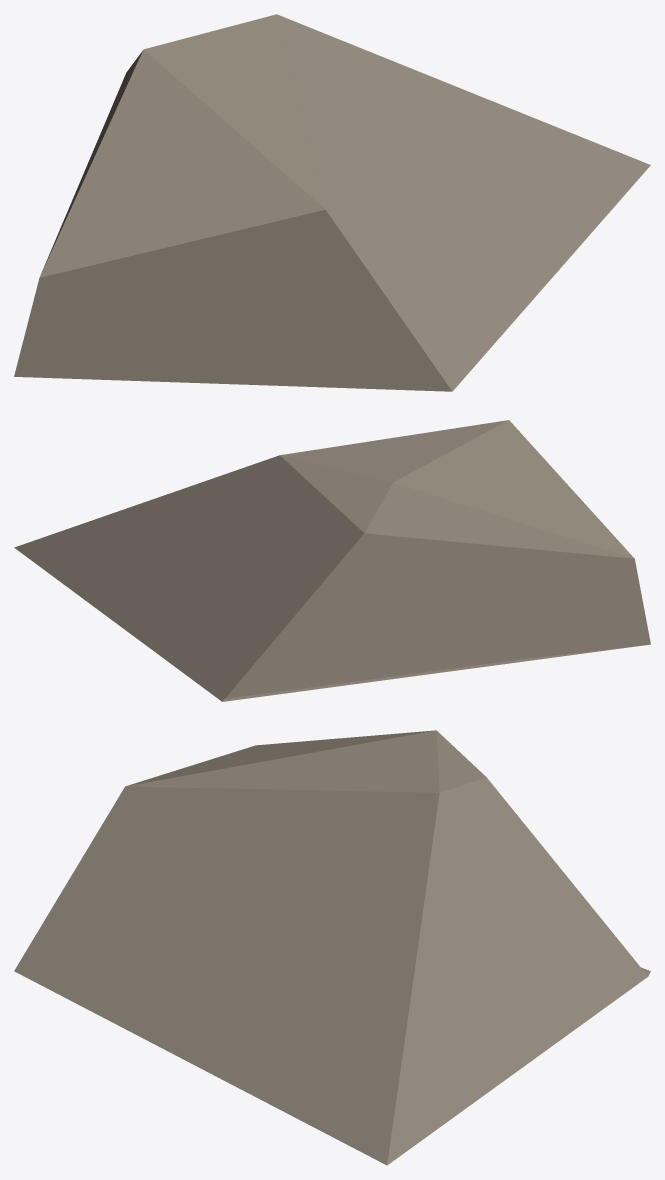
The model's file is Small Rock.fbx.
The picture shows the model from 3 angles, top to bottom: view 1: azimuth 30°, elevation 25°; view 2: azimuth 150°, elevation 25°; view 3: azimuth 270°, elevation 25°; orthographic projection. The views are drawn at different scales.
Visible parts, largest first — view 1: pSphere1; view 2: pSphere1; view 3: pSphere1.
Part boxes in pixels (bbox=[...]): pSphere1: bbox=[14, 14, 650, 391]; pSphere1: bbox=[14, 420, 650, 701]; pSphere1: bbox=[14, 730, 650, 1165].
Bounding box in the file's own units: 2.1 × 0.6174 × 1.71.
